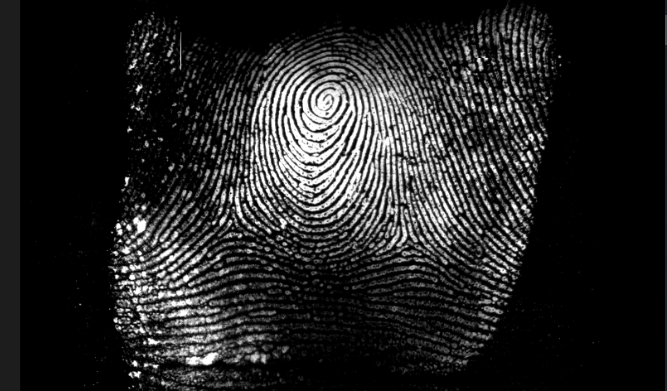deltas: (202, 203, 258, 249), (384, 211, 433, 263)
nucleo: (299, 74, 343, 122)
